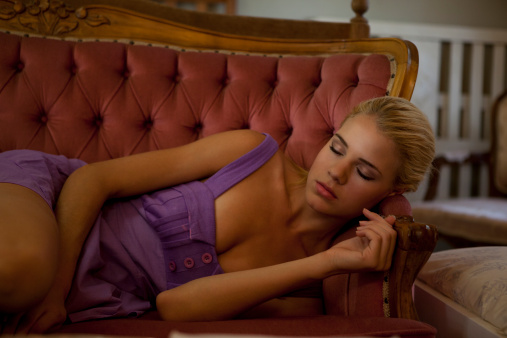deitado: (121, 63, 441, 333)
